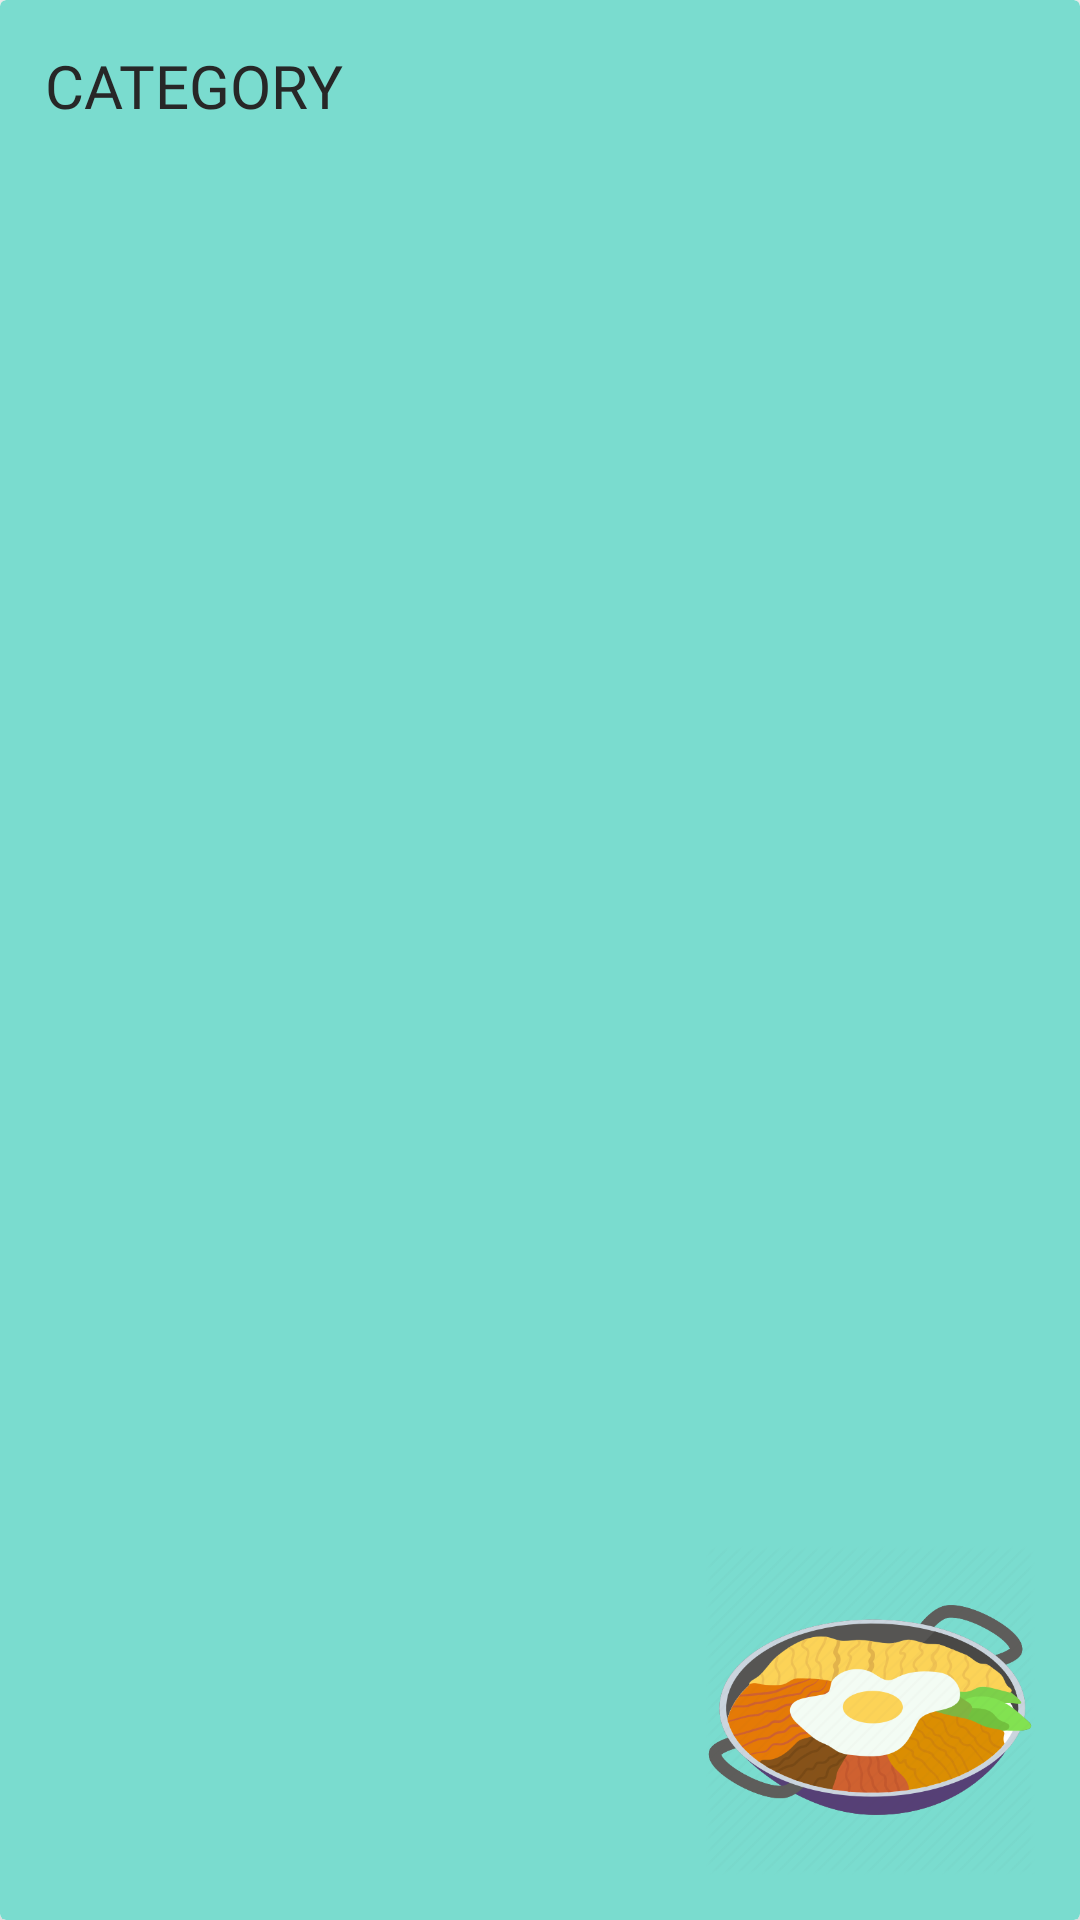

Icon bounding boxes for this 1080 x 1920 phone screenshot, format bbox(x1, y1, x2, y2):
korean: bbox(708, 1605, 1031, 1815)
